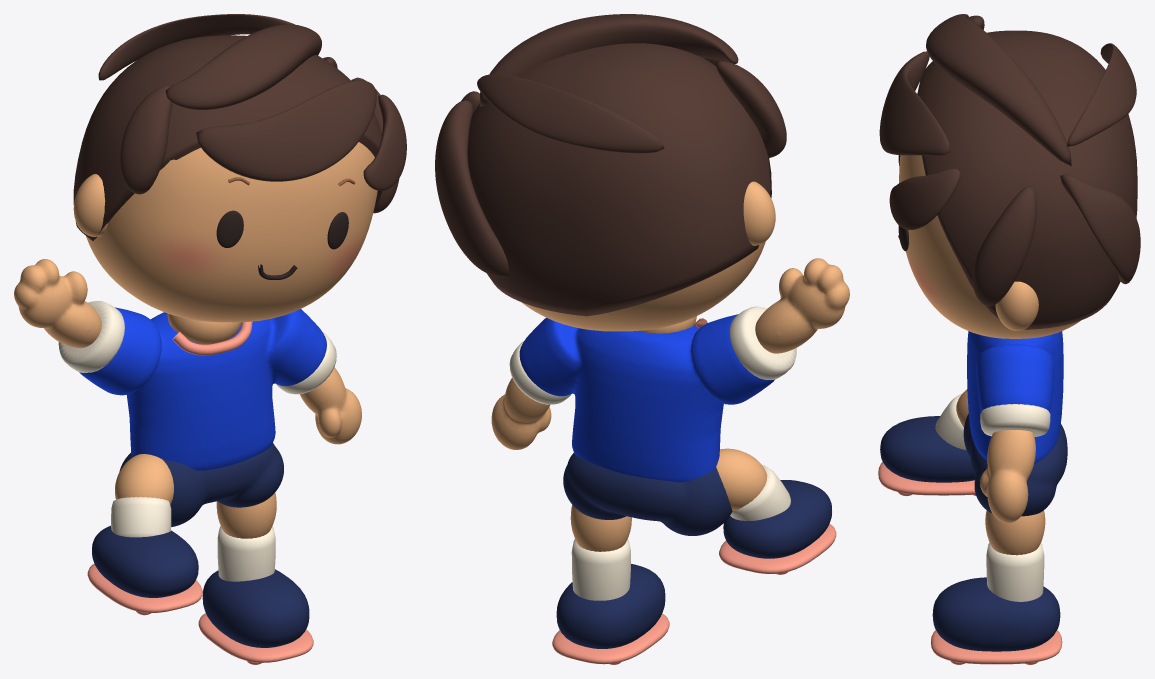
The model's file is kawaii-player-v3.glb.
3 renders of one model, left to right at view 1: azimuth 30°, elevation 25°; view 2: azimuth 150°, elevation 25°; view 3: azimuth 270°, elevation 25°, orthographic. The views are drawn at different scales.
Visible parts, largest first — view 1: Head sculpt, Jersey with rounded shoulder transitions, Close-fitting rounded hair cap, Sculpted main swept fringe, Rounded crown sweep, Standing rounded boot, Raised rounded boot, Soft shorts with asymmetric hems, Waving arm and open mitten hand, Left temple soft lock, Rear crown flow, Lower arm and soft hand (+15 smaller); view 2: Close-fitting rounded hair cap, Jersey with rounded shoulder transitions, Soft shorts with asymmetric hems, Rear crown flow, Rounded crown sweep, Rear right flow, Standing rounded boot, Waving arm and open mitten hand, Head sculpt, Raised rounded boot, Standing sock, Left temple soft lock (+9 smaller); view 3: Close-fitting rounded hair cap, Jersey with rounded shoulder transitions, Rounded crown sweep, Standing rounded boot, Head sculpt, Right temple round lock, Raised rounded boot, Sculpted main swept fringe, Rear right flow, Lower arm and soft hand, Rear crown flow, Soft shorts with asymmetric hems (+8 smaller).
Boxes of the visible parts, x1,y1,x2,y2 form: Head sculpt: (86, 142, 377, 322); Jersey with rounded shoulder transitions: (79, 307, 326, 470); Close-fitting rounded hair cap: (73, 35, 382, 240); Sculpted main swept fringe: (196, 80, 376, 181); Rounded crown sweep: (165, 24, 321, 109); Standing rounded boot: (202, 569, 309, 647); Raised rounded boot: (92, 525, 198, 597); Soft shorts with asymmetric hems: (119, 443, 283, 526); Waving arm and open mitten hand: (14, 259, 101, 348); Left temple soft lock: (120, 85, 172, 194); Rear crown flow: (98, 14, 295, 80); Lower arm and soft hand: (300, 367, 361, 444); Close-fitting rounded hair cap: (467, 43, 771, 316); Jersey with rounded shoulder transitions: (519, 314, 774, 482); Soft shorts with asymmetric hems: (563, 453, 732, 535); Rear crown flow: (477, 74, 664, 153); Rounded crown sweep: (479, 14, 738, 106); Rear right flow: (435, 100, 509, 277); Standing rounded boot: (556, 564, 665, 648); Waving arm and open mitten hand: (755, 258, 849, 353); Head sculpt: (521, 241, 765, 331); Raised rounded boot: (723, 480, 831, 558); Standing sock: (571, 539, 630, 600); Left temple soft lock: (716, 61, 786, 157); Close-fitting rounded hair cap: (917, 30, 1137, 329); Jersey with rounded shoulder transitions: (967, 331, 1063, 464); Rounded crown sweep: (926, 14, 1071, 166); Standing rounded boot: (932, 577, 1060, 651); Head sculpt: (899, 93, 1079, 338); Right temple round lock: (972, 186, 1036, 306); Raised rounded boot: (880, 416, 975, 482); Sculpted main swept fringe: (879, 51, 950, 155); Rear right flow: (1060, 174, 1140, 284); Lower arm and soft hand: (980, 430, 1035, 522); Rear crown flow: (1066, 43, 1136, 146); Soft shorts with asymmetric hems: (963, 414, 1067, 516).
Size of the model in its own units: 0.1159 by 0.1797 by 0.0699.
